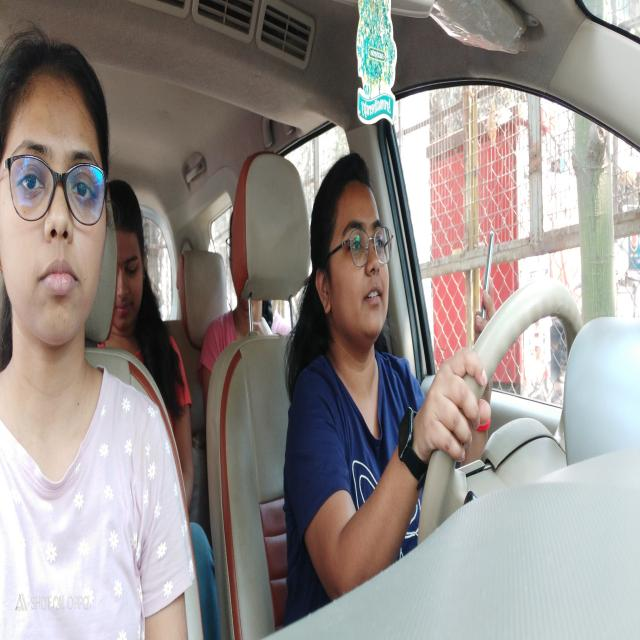mobile: (476, 226, 499, 362)
person: (1, 31, 110, 365), (309, 148, 393, 362), (106, 176, 147, 340), (224, 203, 252, 328)
